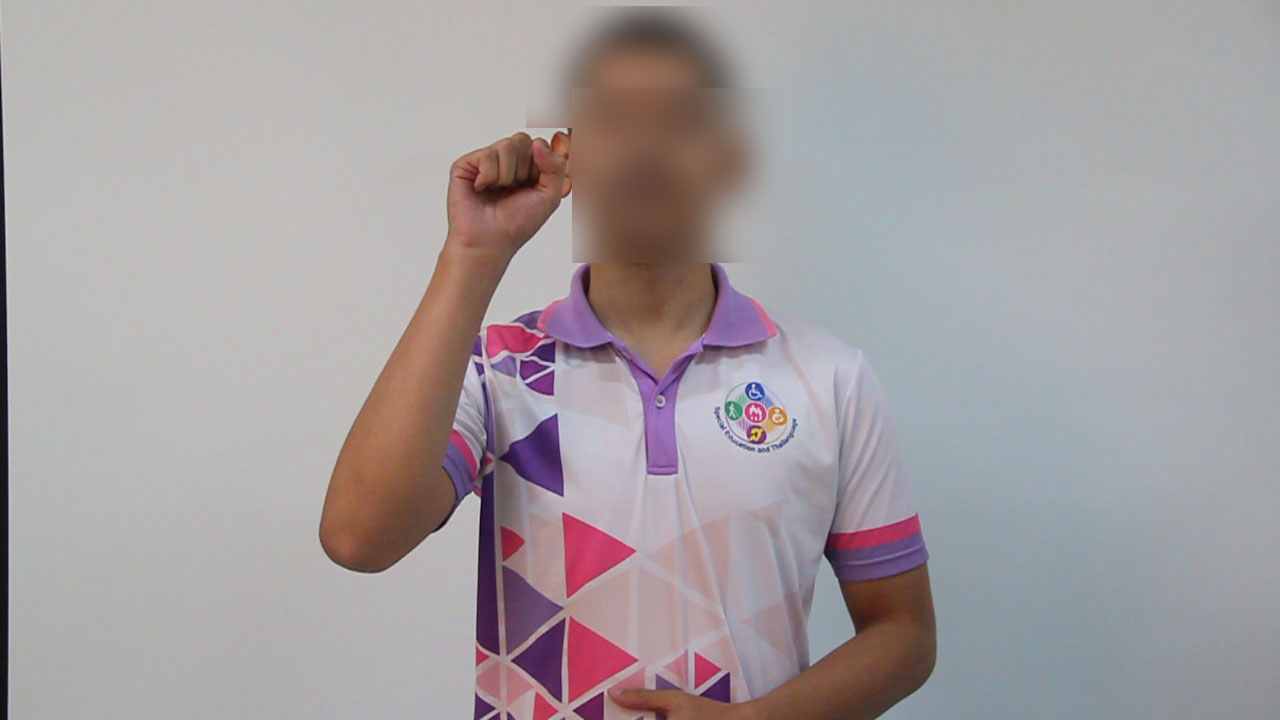sor: (433, 119, 573, 270)
